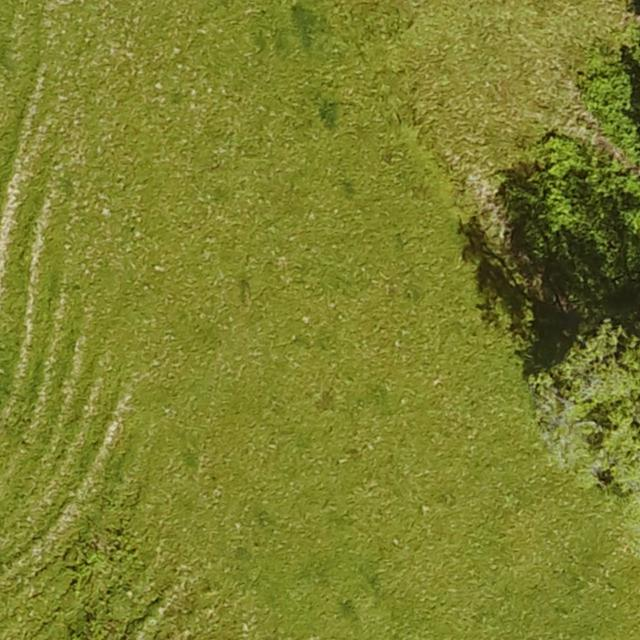tree: (532, 314, 640, 502)
